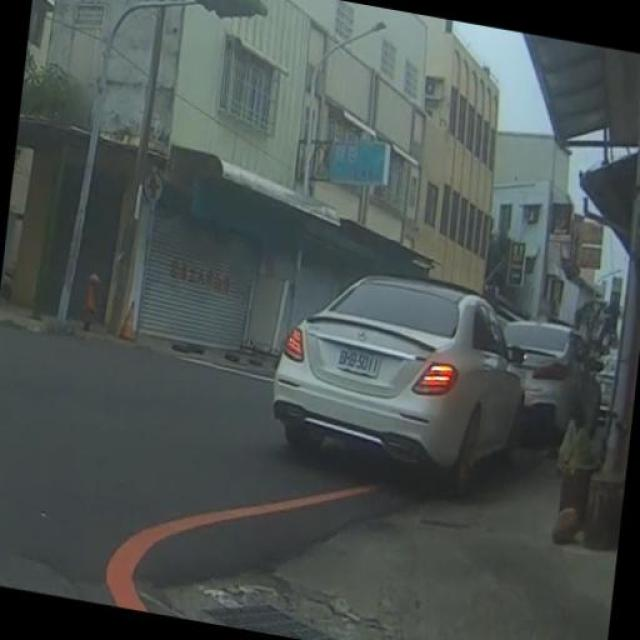illegalparking: (267, 219, 601, 517)
